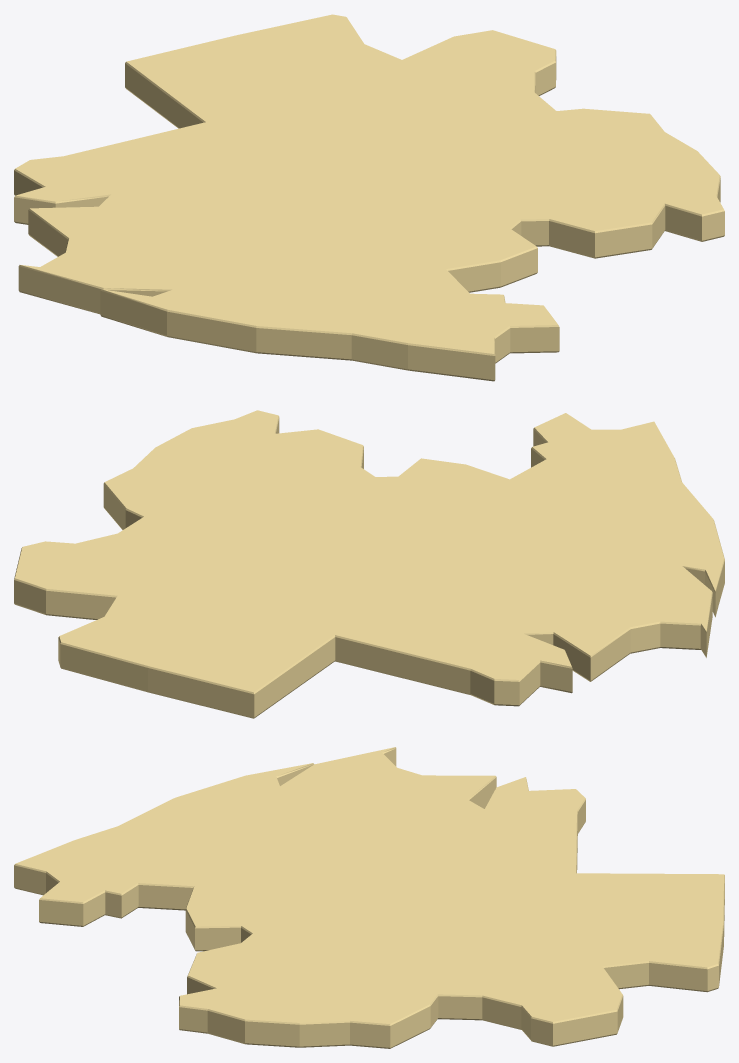
Rendered from GAB.glb.
3 renders of one model, top to bottom at view 1: azimuth 30°, elevation 25°; view 2: azimuth 150°, elevation 25°; view 3: azimuth 270°, elevation 25°, orthographic. The views are drawn at different scales.
Bounding box in the file's own units: 1.63 × 0.068 × 1.76.
